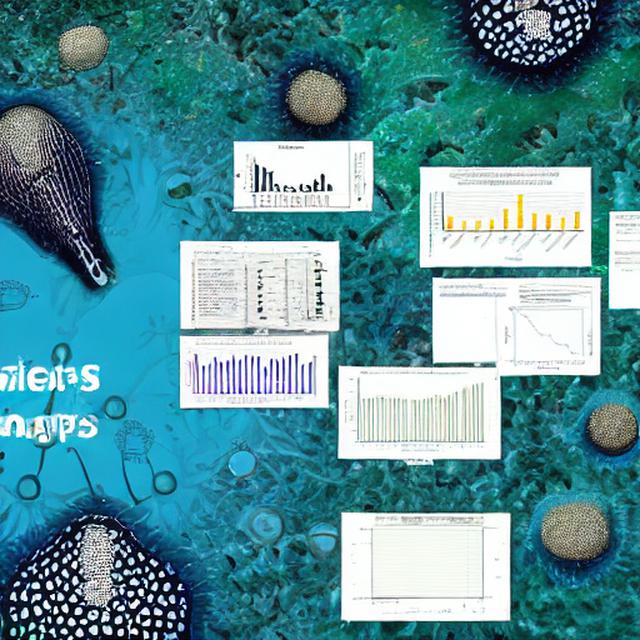Graph: (424, 169, 587, 264), (340, 369, 489, 456), (181, 340, 307, 405), (234, 142, 351, 209), (503, 308, 587, 371)
